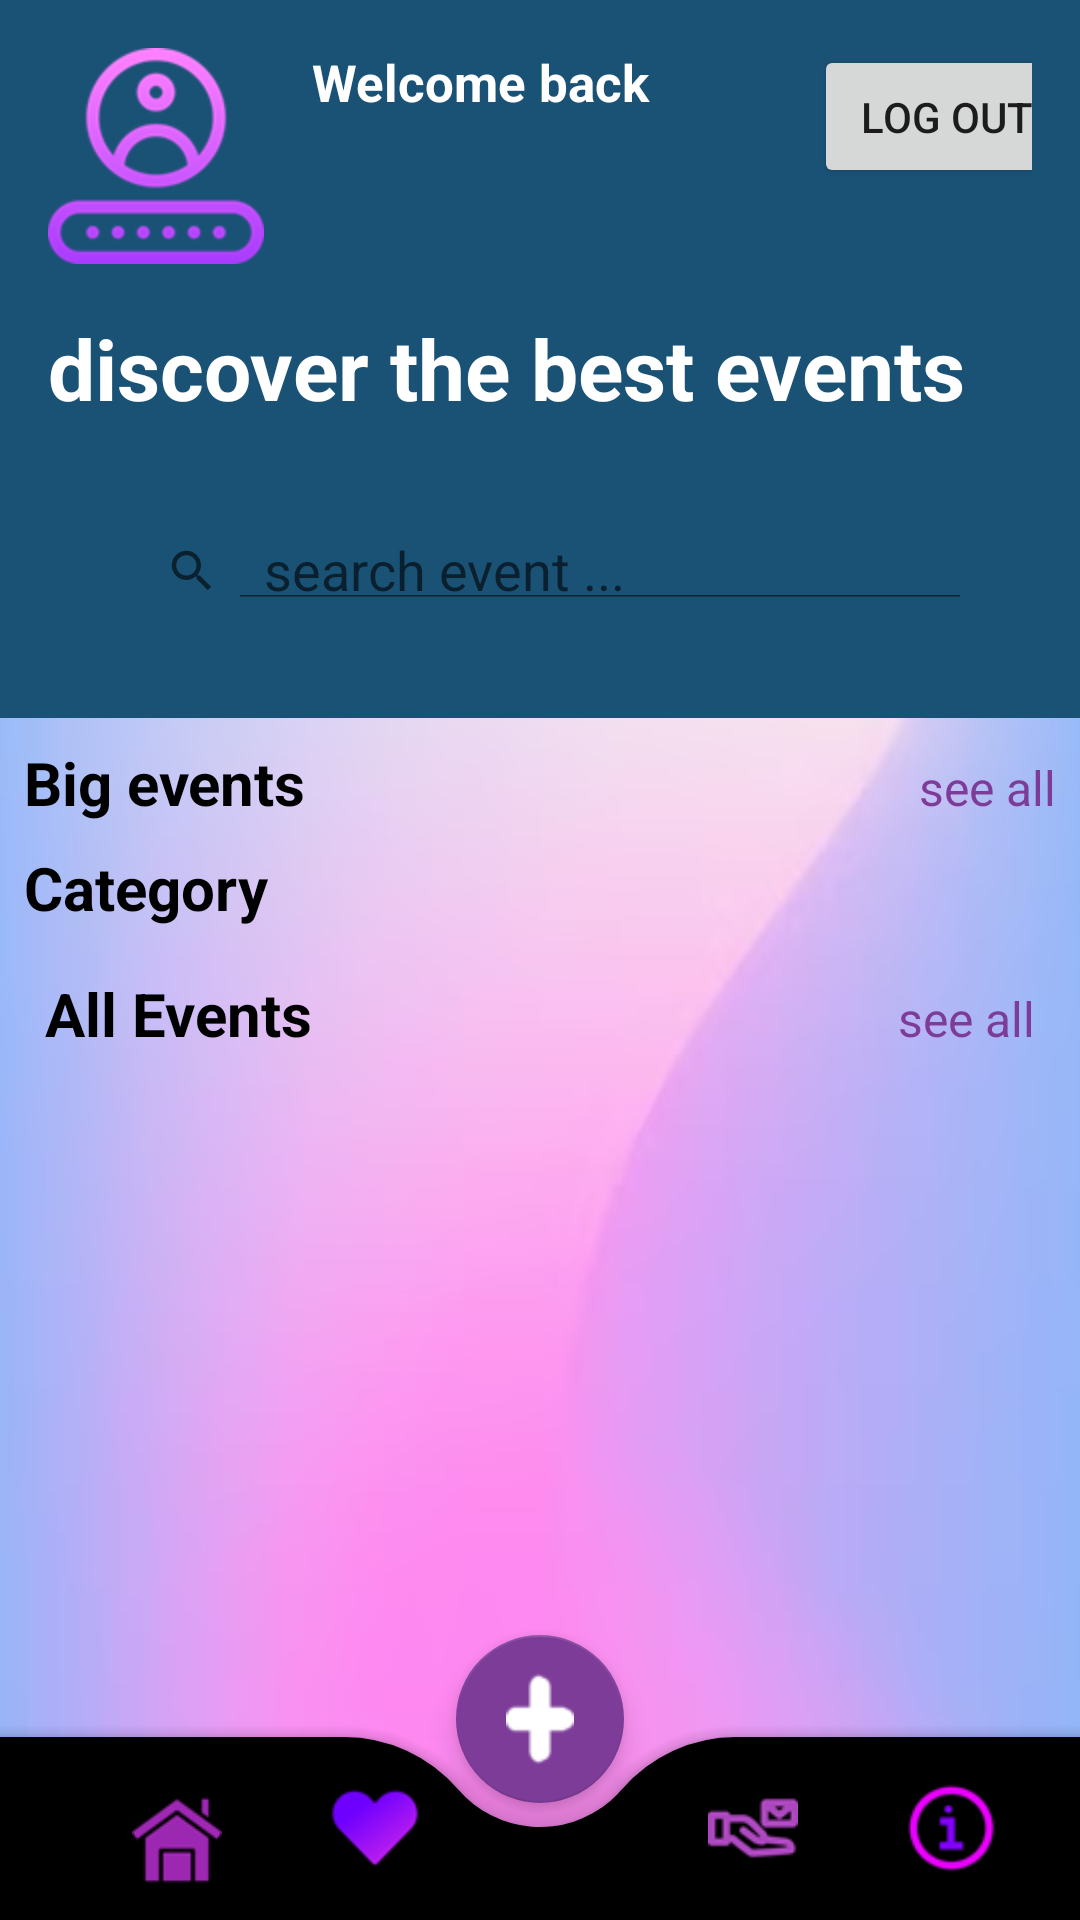

Named icons in this screenshot (1080px x 1920px) and their centers, [x,y]:
favorite: [375,1827]
float: [540,1737]
home: [177,1840]
info: [951,1828]
login: [156,156]
mail: [753,1828]
